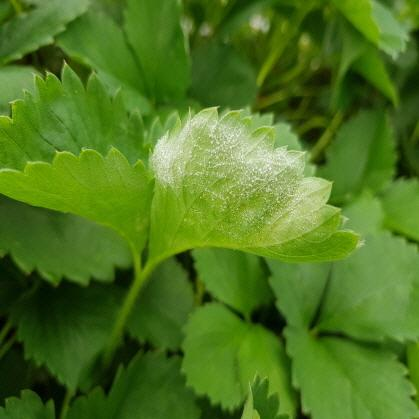Powdery Mildew Leaf: (148, 105, 364, 265)
